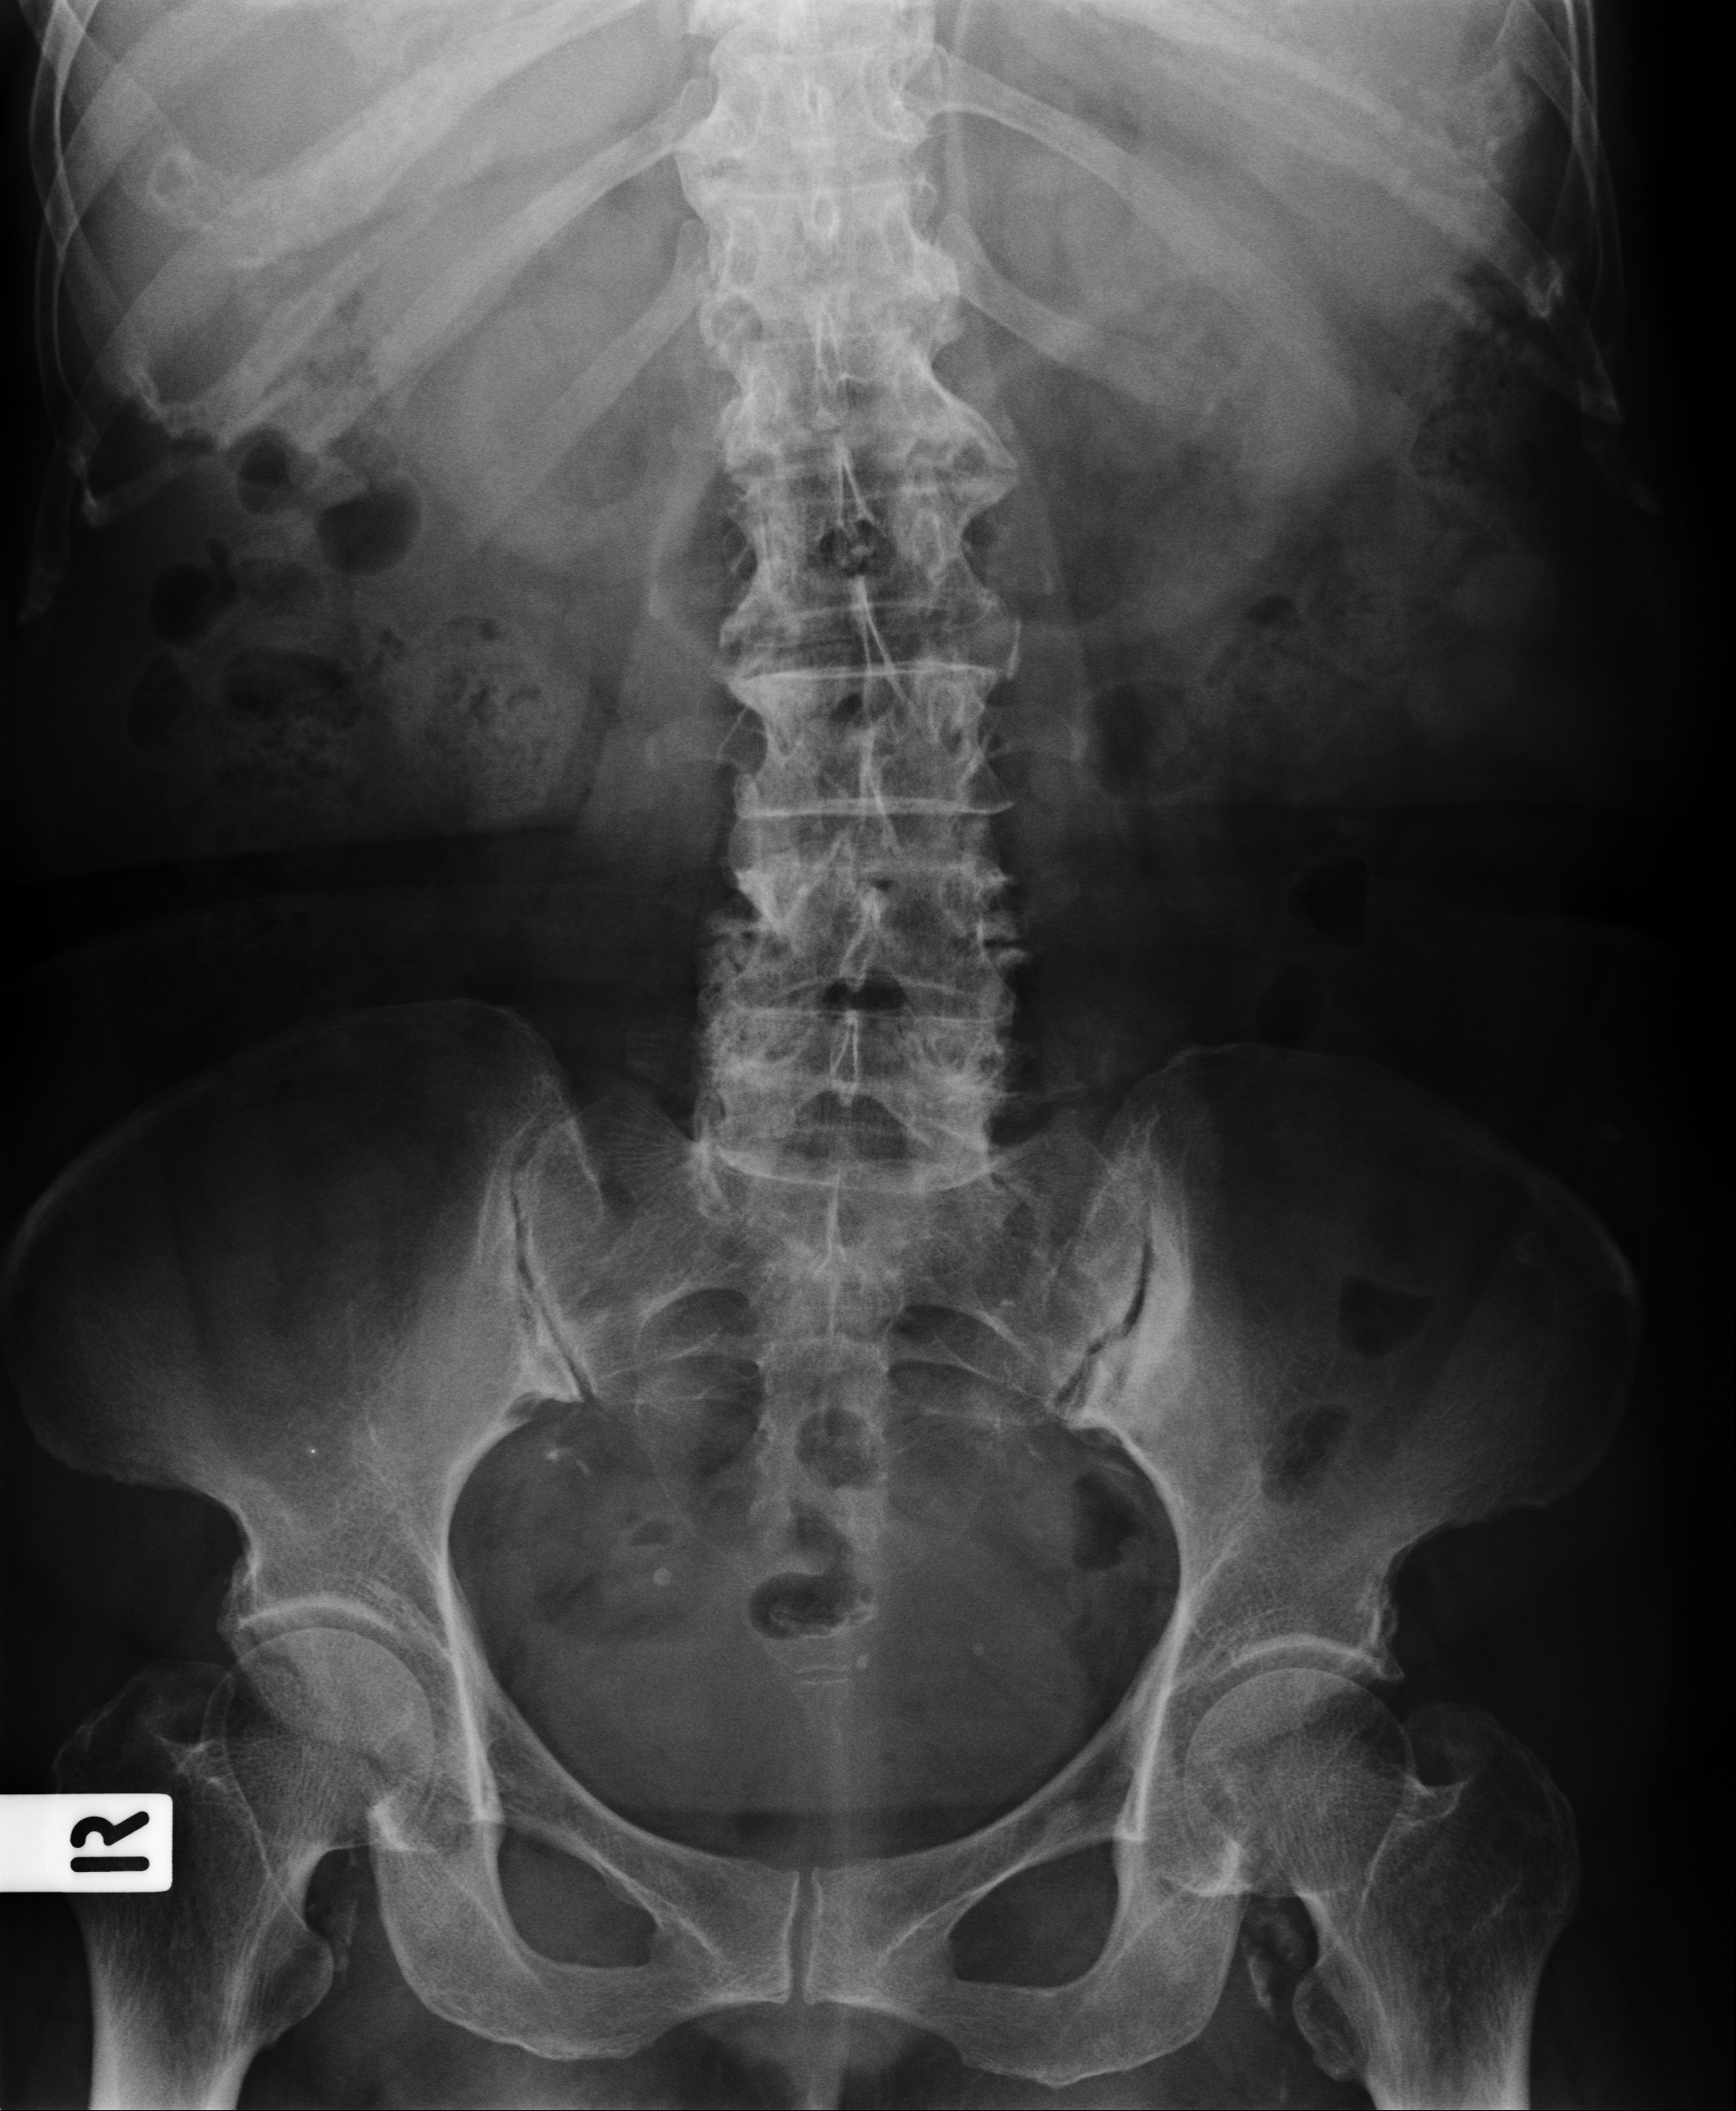lumbar scoliosis: (659, 18, 1031, 1276)
